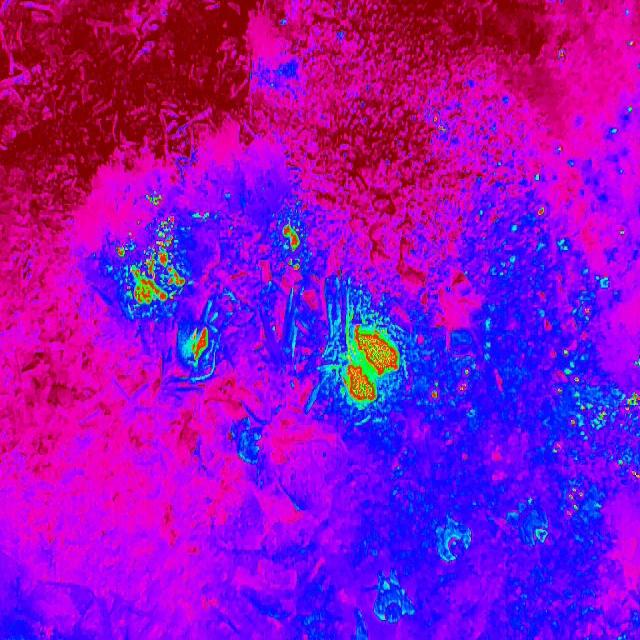fire: (514, 172, 640, 528), (112, 214, 185, 314), (336, 316, 401, 412), (424, 369, 474, 403), (184, 324, 214, 368), (278, 224, 302, 276), (426, 112, 449, 138), (140, 189, 166, 209), (552, 48, 570, 64)
